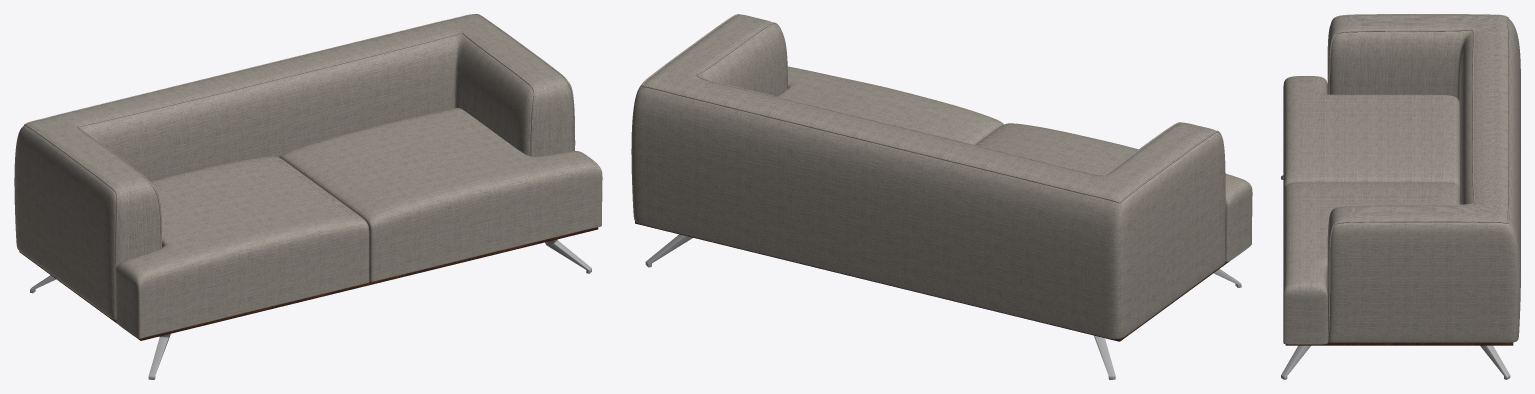
File: white-sofa.glb
3 renders of one model, left to right at view 1: azimuth 30°, elevation 25°; view 2: azimuth 150°, elevation 25°; view 3: azimuth 270°, elevation 25°, orthographic. The views are drawn at different scales.
Visible parts, largest first — view 1: Sofa Double Seat; view 2: Sofa Double Seat; view 3: Sofa Double Seat.
Part boxes in pixels (x1,y1,x2,y2): Sofa Double Seat: [14, 14, 602, 379]; Sofa Double Seat: [631, 14, 1252, 379]; Sofa Double Seat: [1281, 14, 1520, 379].
Size of the model in its own units: 1.85 by 0.6553 by 0.8779.
3 materials, 3 textured.
